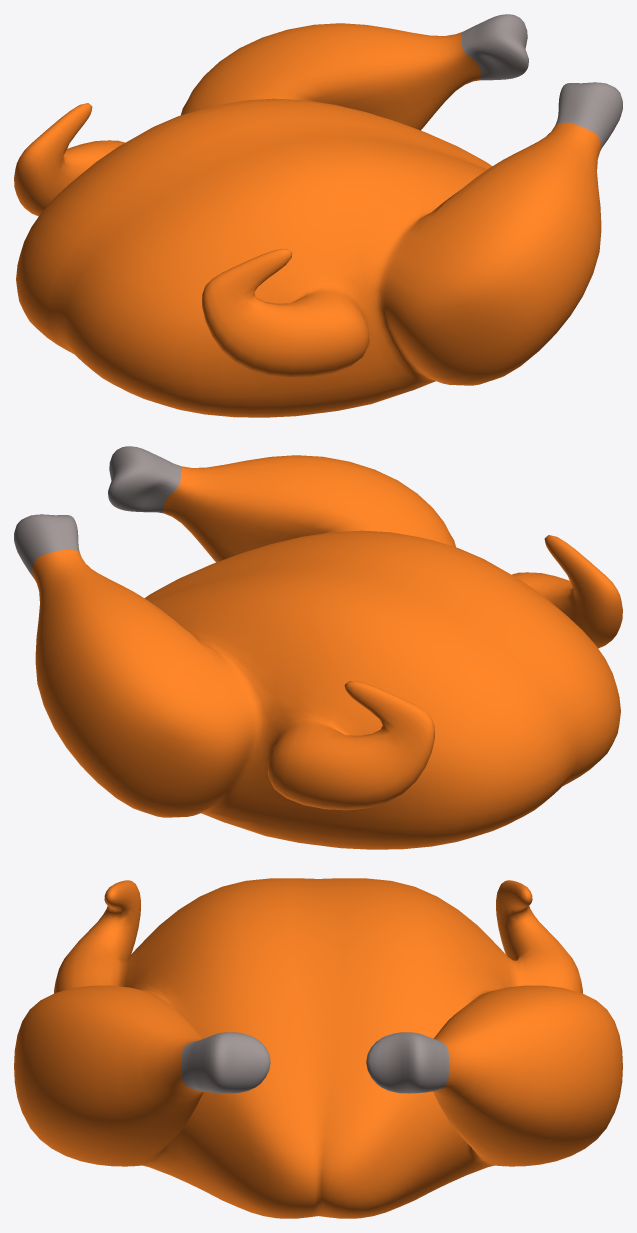
The model's file is roasted chicken materials.glb.
The picture shows the model from 3 angles, top to bottom: view 1: azimuth 30°, elevation 25°; view 2: azimuth 150°, elevation 25°; view 3: azimuth 270°, elevation 25°; orthographic projection. The views are drawn at different scales.
Parts seen in each view (by area): view 1: roasted chicken; view 2: roasted chicken; view 3: roasted chicken.
Part boxes in pixels (box(x1,y1,x2,y2)): roasted chicken: box(14, 14, 622, 417); roasted chicken: box(14, 446, 622, 849); roasted chicken: box(14, 878, 622, 1218).
Size of the model in its own units: 2.99 by 1.37 by 2.91.
